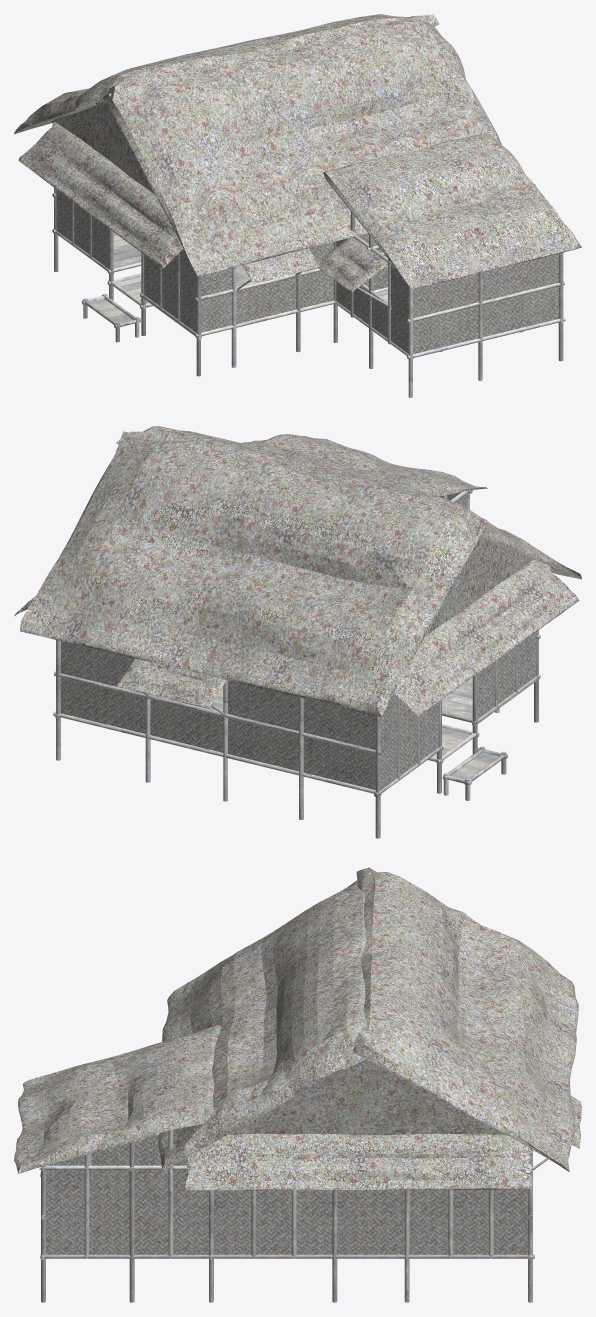
3 views of the same model, one above another, from view 1: azimuth 30°, elevation 25°; view 2: azimuth 150°, elevation 25°; view 3: azimuth 270°, elevation 25° (orthographic). The views are drawn at different scales.
Parts seen in each view (by area): view 1: Meshpart6, Meshpart2, Meshpart1, Part3, Part2, Meshpart7, Part145, Part140, Part48, Part47, Wedge2, Meshpart3 (+22 smaller); view 2: Meshpart7, Meshpart1, Part187, Part186, Meshpart6, Part121, Part120, Meshpart2, Part95, Part94, Meshpart8, Wedge1 (+14 smaller); view 3: Meshpart7, Meshpart6, Part177, Part172, Meshpart5, Meshpart2, Part41, Part36, Wedge4, Wedge3, Part160, Part28 (+9 smaller).
Part boxes in pixels (x1,y1,x2,y2): Meshpart6: (103,14,501,276); Meshpart2: (323,132,581,288); Meshpart1: (18,122,183,268); Part3: (413,254,559,354); Part2: (413,254,558,353); Meshpart7: (14,14,439,134); Part145: (201,271,333,332); Part140: (201,271,333,332); Part48: (144,249,196,332); Part47: (144,249,196,332); Wedge2: (51,102,125,172); Meshpart3: (317,237,388,292); Meshpart7: (20,431,488,716); Meshpart1: (394,559,579,716); Part187: (60,677,375,789); Part186: (61,677,375,789); Meshpart6: (116,426,581,579); Part121: (227,680,375,749); Part120: (228,680,375,749); Meshpart2: (241,434,487,496); Part95: (380,695,438,789); Part94: (380,695,438,789); Meshpart8: (117,658,226,708); Wedge1: (455,537,533,614); Meshpart7: (353,867,578,1171); Meshpart6: (158,880,376,1173); Part177: (214,1189,528,1254); Part172: (214,1189,528,1254); Meshpart5: (185,1133,533,1190); Meshpart2: (14,1025,221,1173); Part41: (46,1170,208,1254); Part36: (46,1170,208,1254); Wedge4: (363,1059,505,1134); Wedge3: (227,1061,362,1135); Part160: (40,1254,534,1258); Part28: (91,1136,161,1165).
Size of the model in its own units: 31.76 by 20.48 by 38.16.
Materials: 5 (5 with a texture image).
